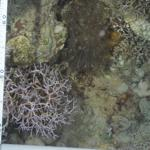dead: (5, 1, 140, 142)
